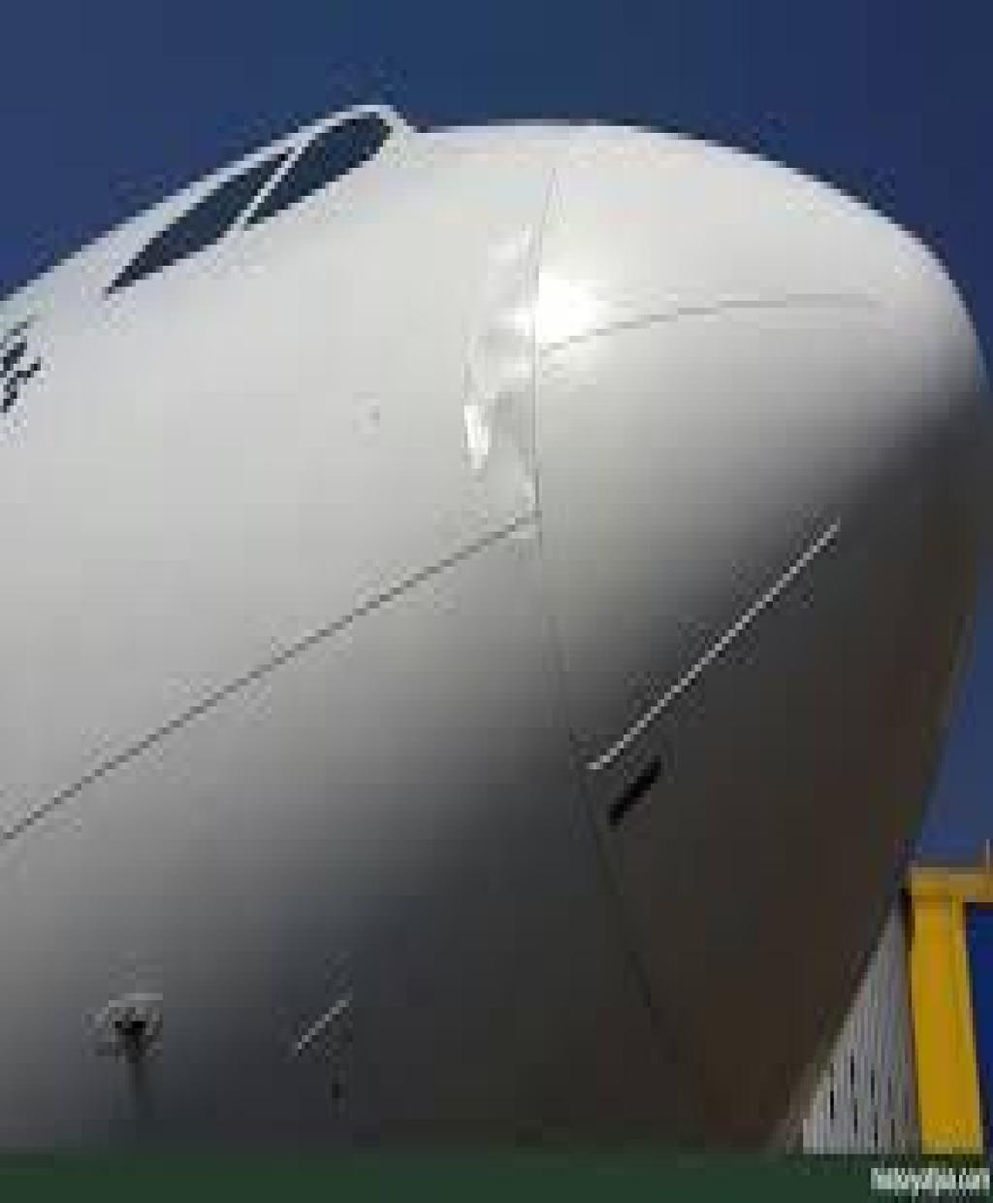dent: (469, 224, 538, 519)
